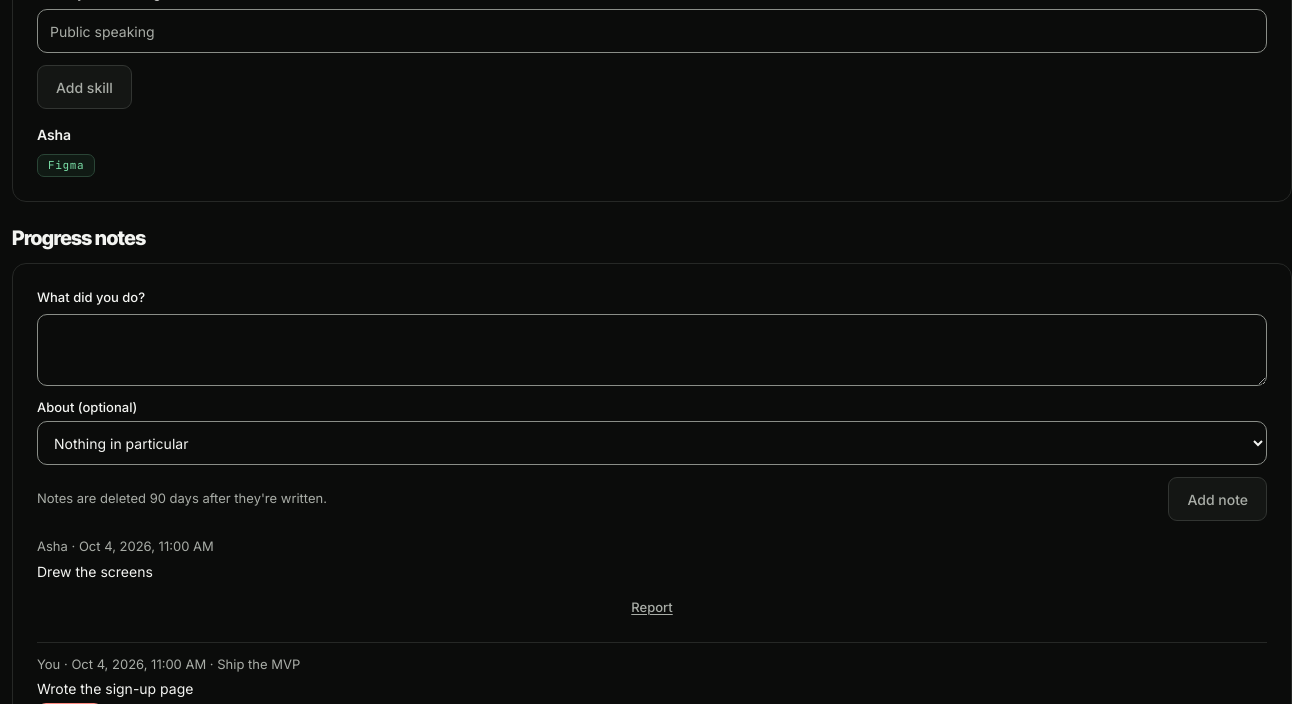
Test case: SpaceView › writes a note about one of your skills
(page scrolled)
Type "Finished a course" into the text box labelled "What did you do?" at (652, 350), box [37, 314, 1267, 386]
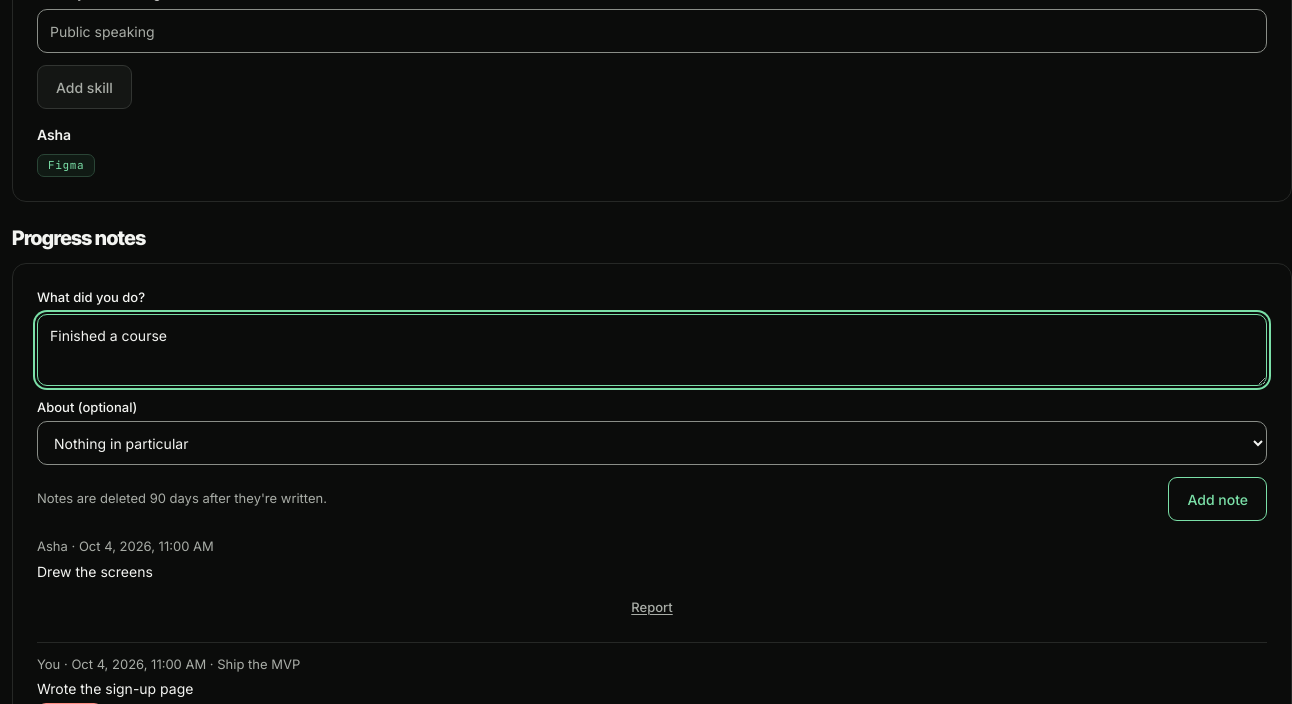
Select "Skill: Python" in the dropdown labelled "About (optional)" at (652, 443), box [37, 421, 1267, 465]
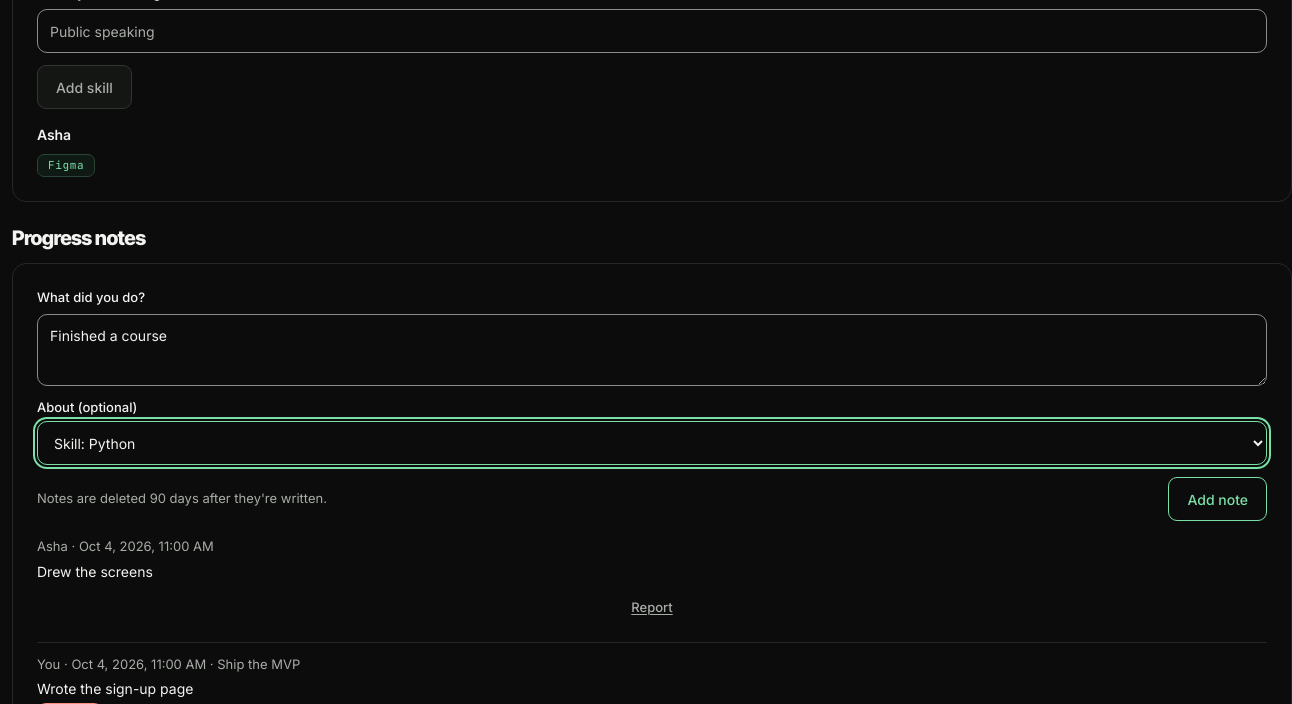
Click the button "Add note" at (1218, 499), box [1168, 477, 1267, 521]
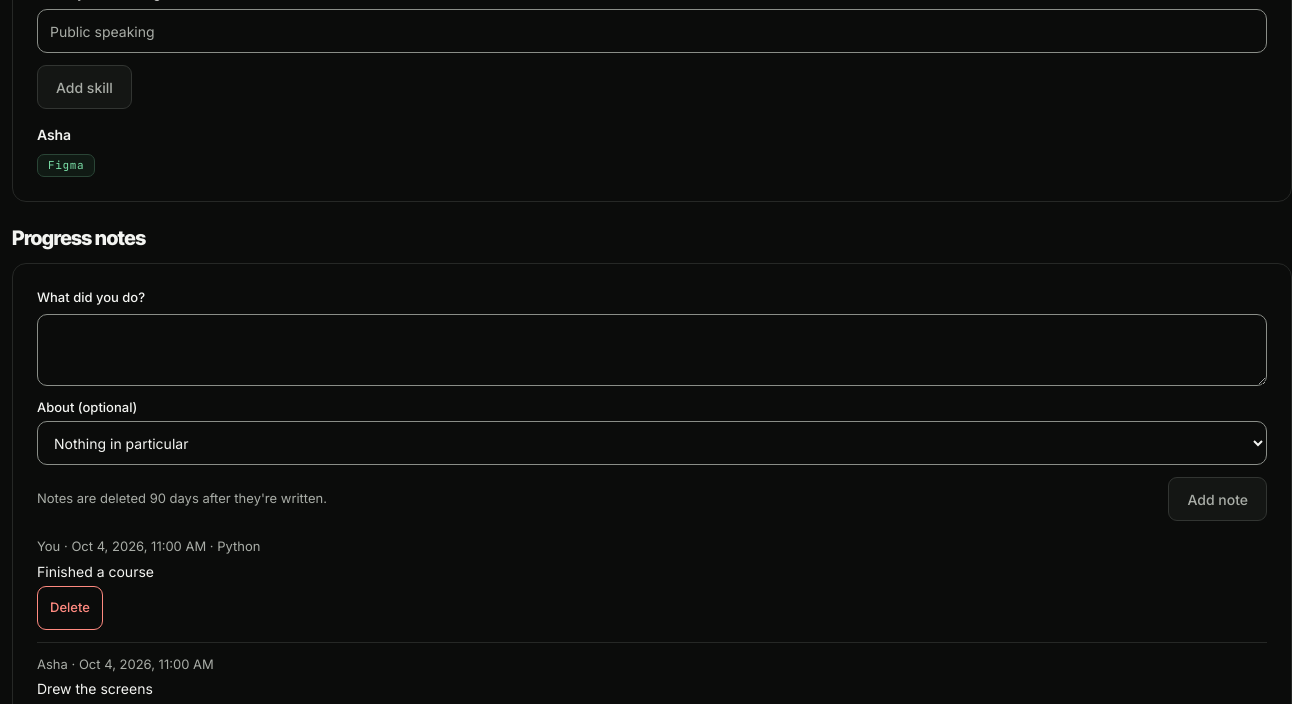
Expected: the text "Finished a course" is shown, [37, 563, 154, 580]
